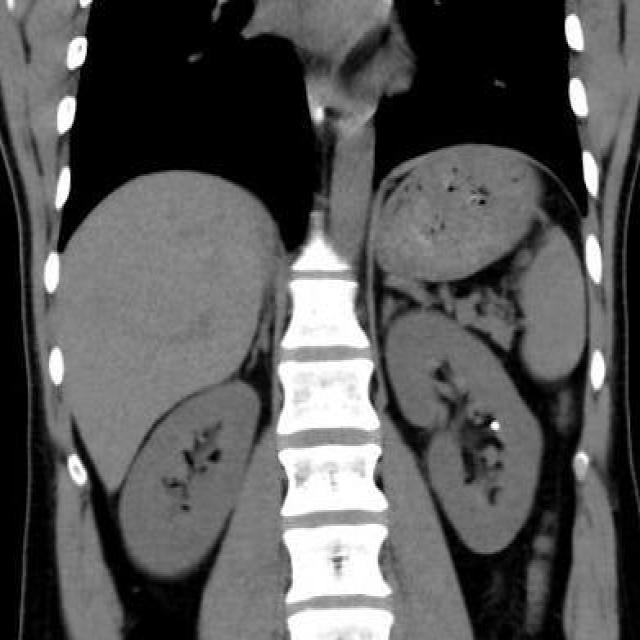Tas_Var: (488, 417, 502, 433)
